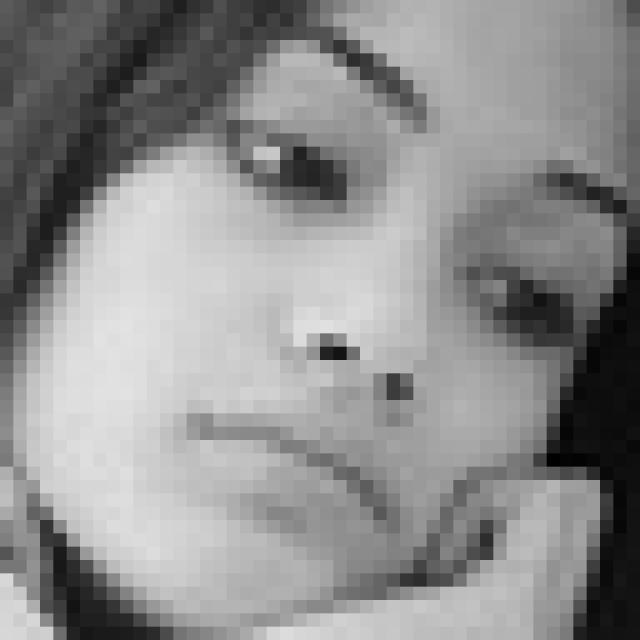sad: (166, 26, 640, 540)
